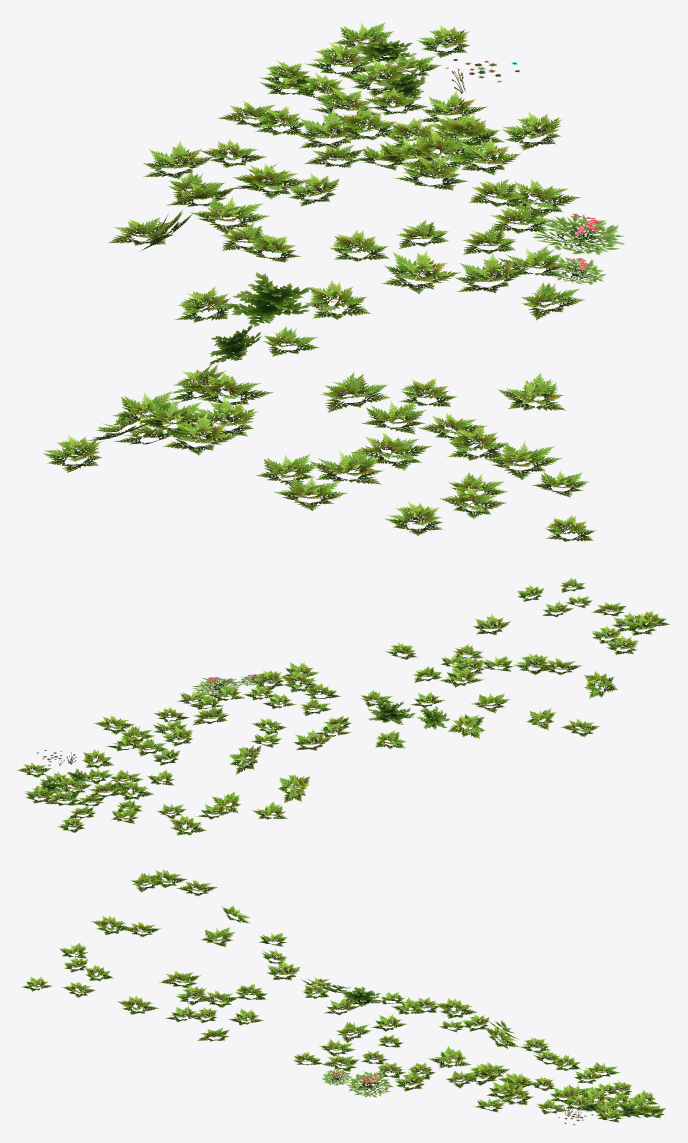
File: Ferns_08.fbx
The picture shows the model from 3 angles, top to bottom: view 1: azimuth 30°, elevation 25°; view 2: azimuth 150°, elevation 25°; view 3: azimuth 270°, elevation 25°; orthographic projection. The views are drawn at different scales.
Parts seen in each view (by area): view 1: Ferns_08; view 2: Ferns_08; view 3: Ferns_08.
Part boxes in pixels (x1,y1,x2,y2): Ferns_08: [42, 22, 624, 541]; Ferns_08: [17, 578, 670, 835]; Ferns_08: [22, 868, 665, 1125].
Bounding box in the file's own units: 5382 × 1228 × 7596.
